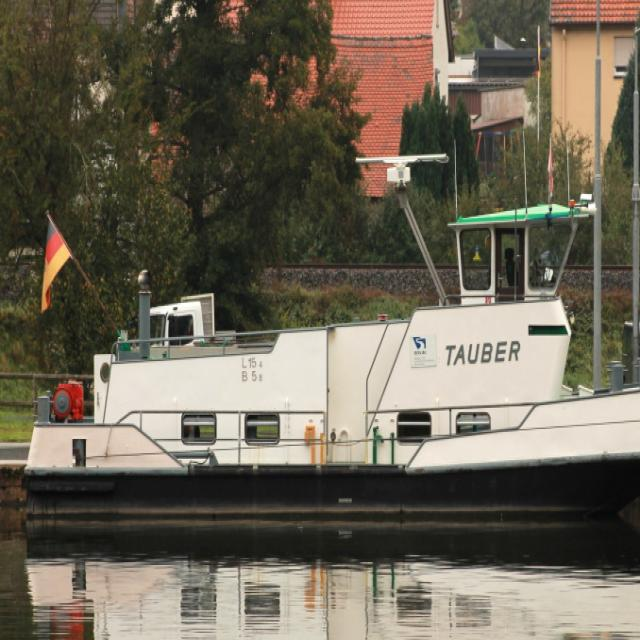tugboat: (15, 150, 640, 546)
